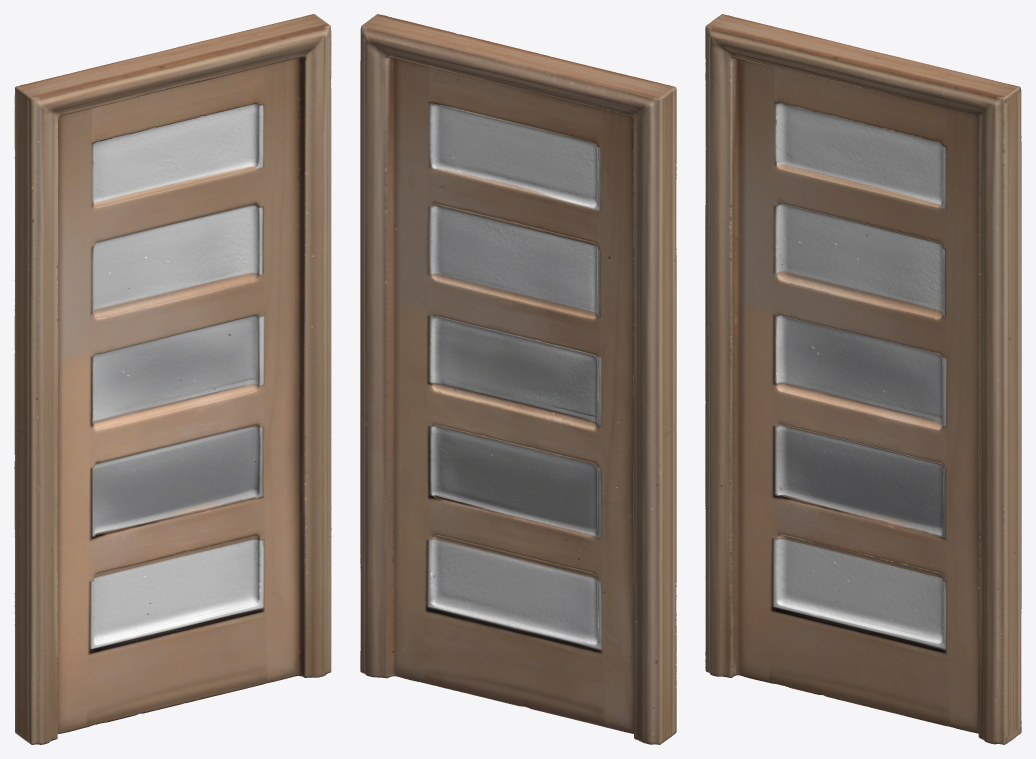
The model's file is Five panel wooden door.glb.
3 views of the same model, side by side, from view 1: azimuth 30°, elevation 25°; view 2: azimuth 150°, elevation 25°; view 3: azimuth 330°, elevation 25° (orthographic).
Size of the model in its own units: 0.9748 by 2 by 0.1255.
1 material, 1 textured.
